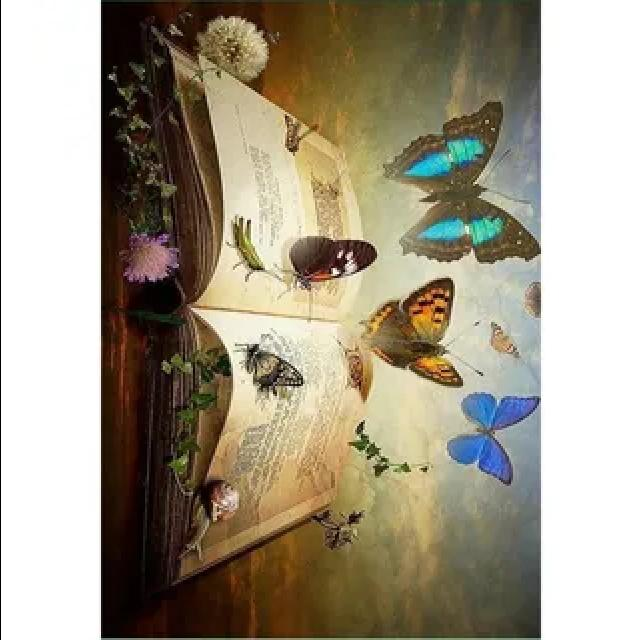book: (120, 38, 394, 614)
